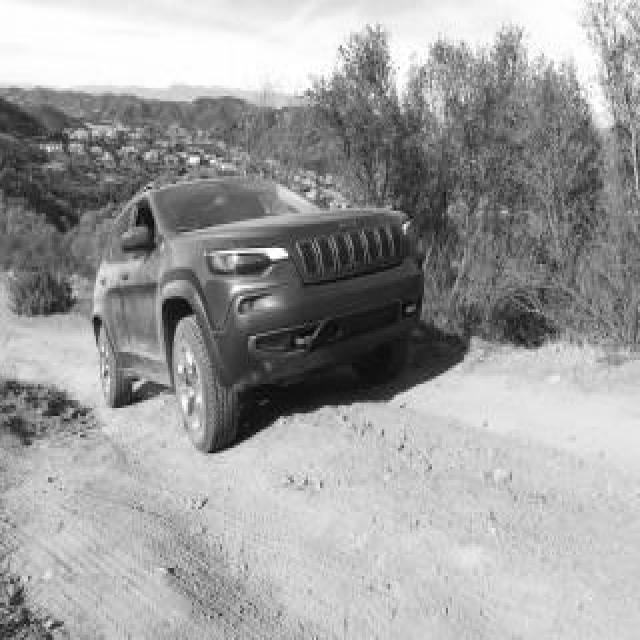Car: (91, 177, 424, 451)
